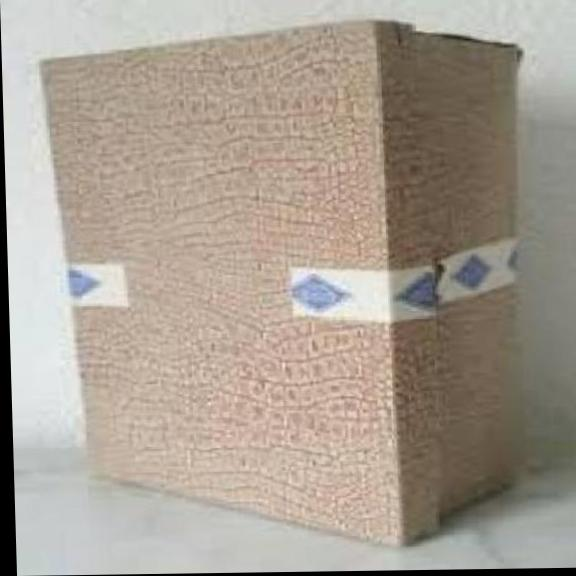Kertas: (43, 22, 515, 543)
